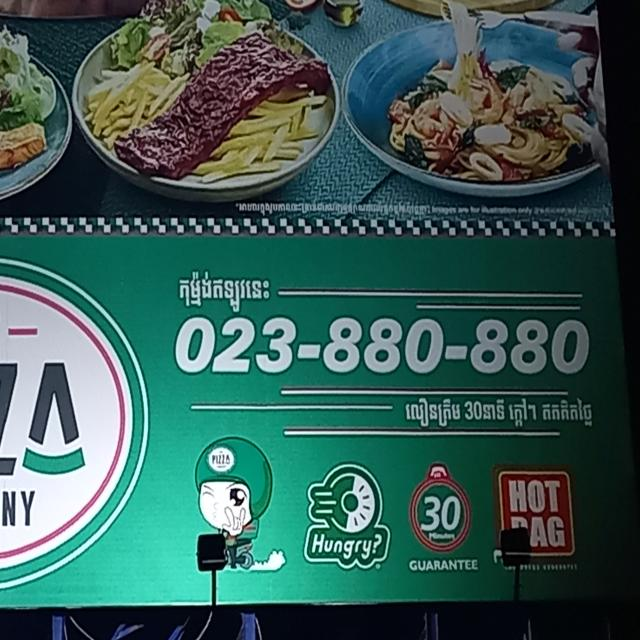2: (483, 398, 595, 429)
335: (169, 313, 592, 381)
710: (411, 493, 466, 533), (464, 399, 481, 425)
Yolov11kh: (175, 263, 274, 314), (404, 395, 464, 428)
